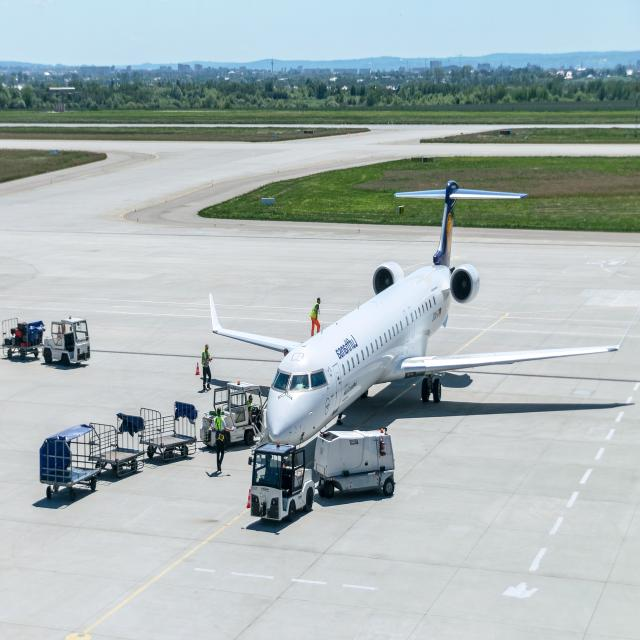plain: (205, 186, 622, 461)
